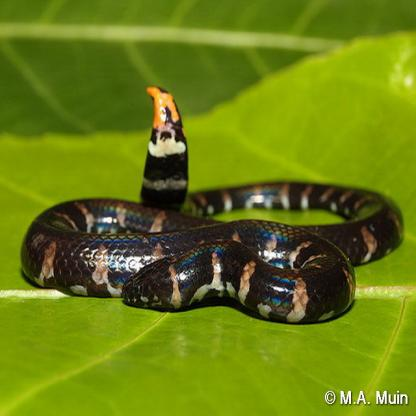Snake: (20, 78, 408, 323)
